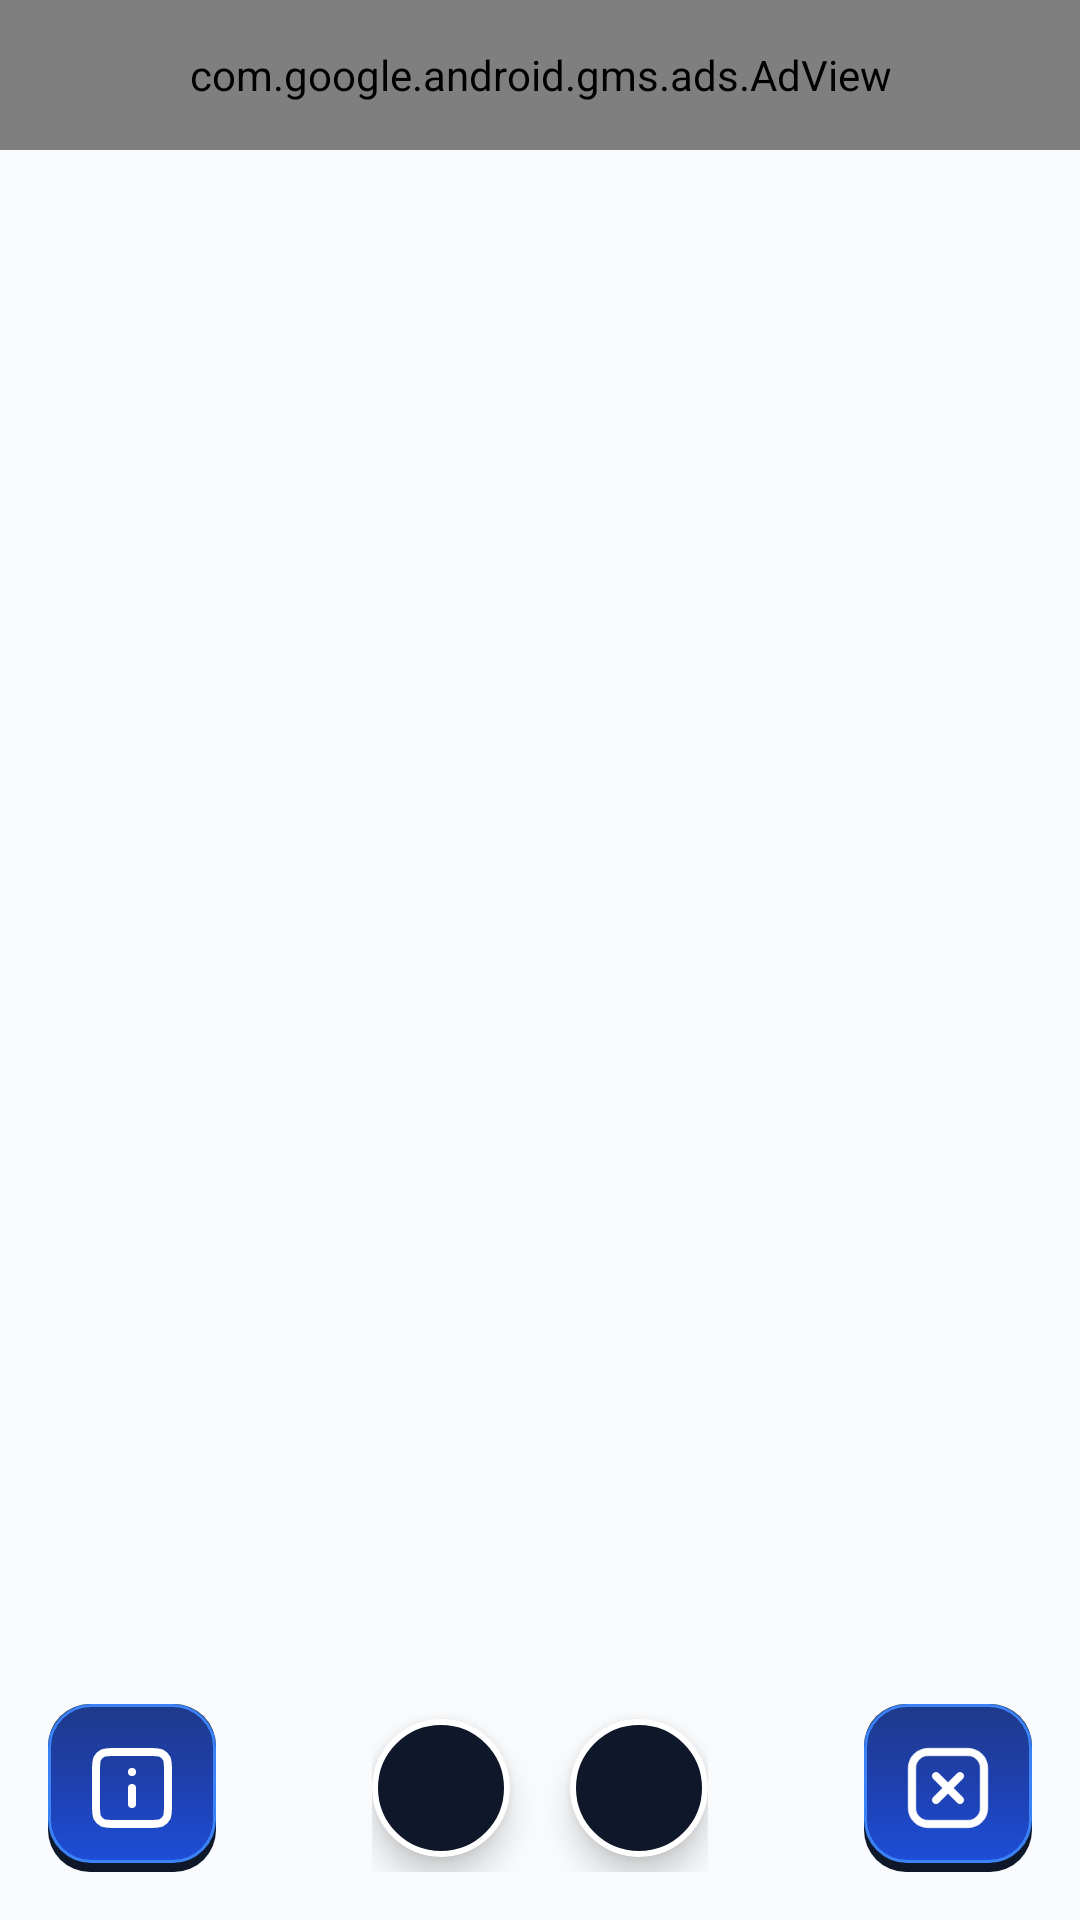

Point at icon controls on the screen. Image size 1080 x 1920, points as [x,y].
Close application: [948,1788]
